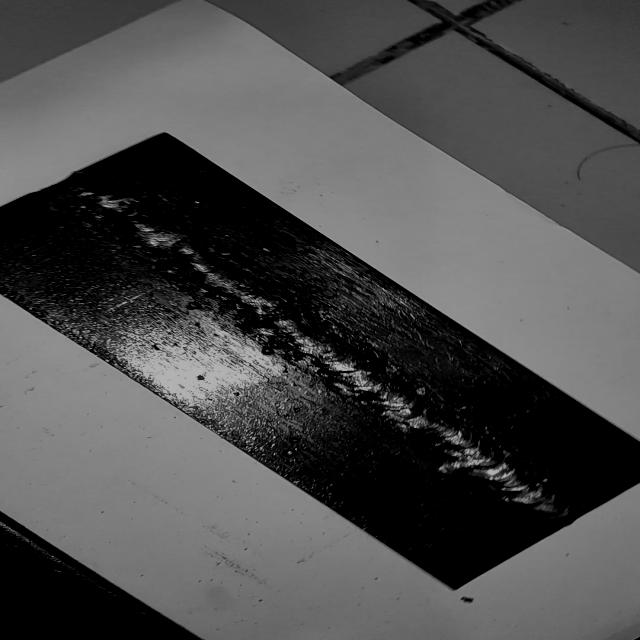Bad Weld: (63, 180, 584, 525)
Defect: (43, 165, 156, 231)
